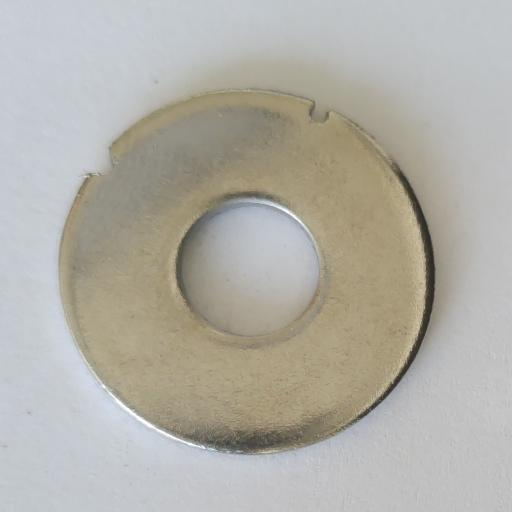burr: (91, 147, 113, 176), (309, 101, 330, 123)
